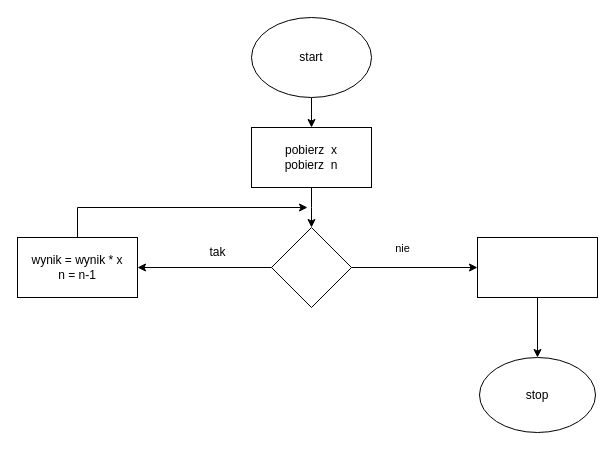
This 615x450 diagram has some shape labels left out. The centre of each missing label's shape, as x and y in pixels:
"n > 0" goes at point 311,267.
"wynik" goes at point 537,267.
